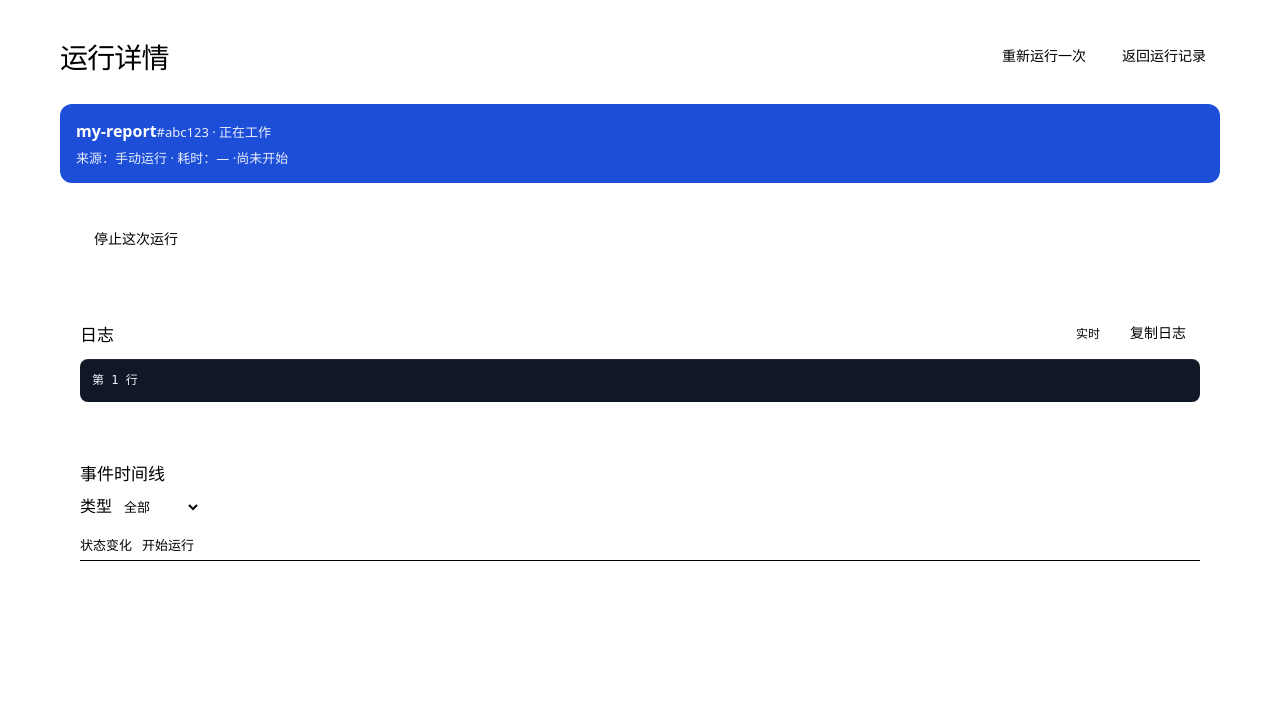
Test: RunDetailScreen › 复制日志把全部文本写入剪贴板并提示已复制
Click the button "复制日志": (1158, 333) x1=1116 y1=315 x2=1200 y2=351
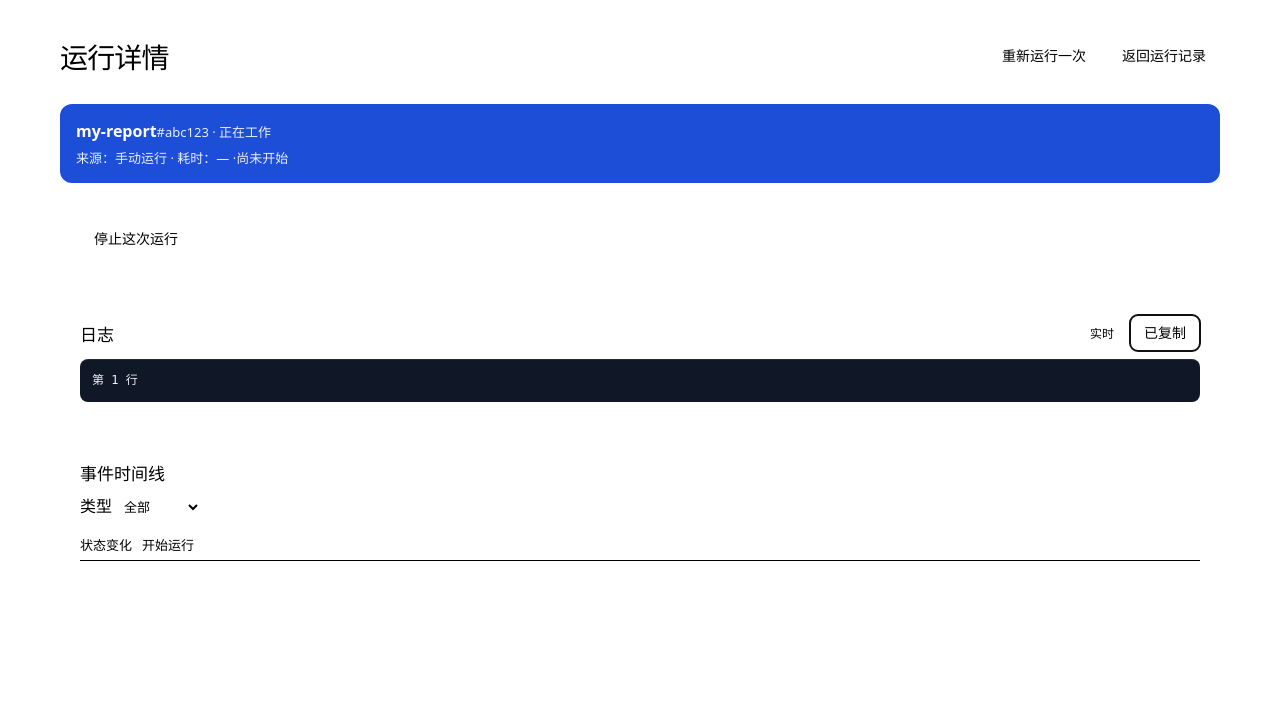
Now the button "已复制" is shown, box x1=1130 y1=315 x2=1200 y2=351
